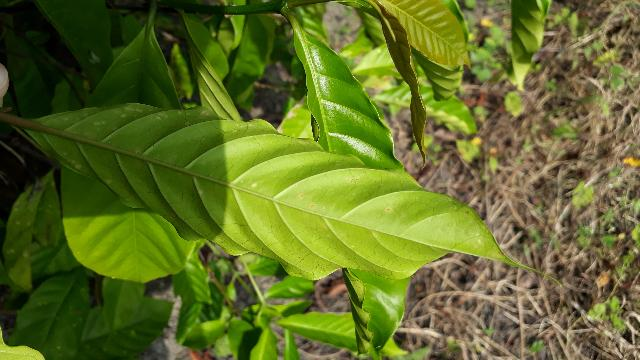rust_level_1: (78, 74, 616, 258)
